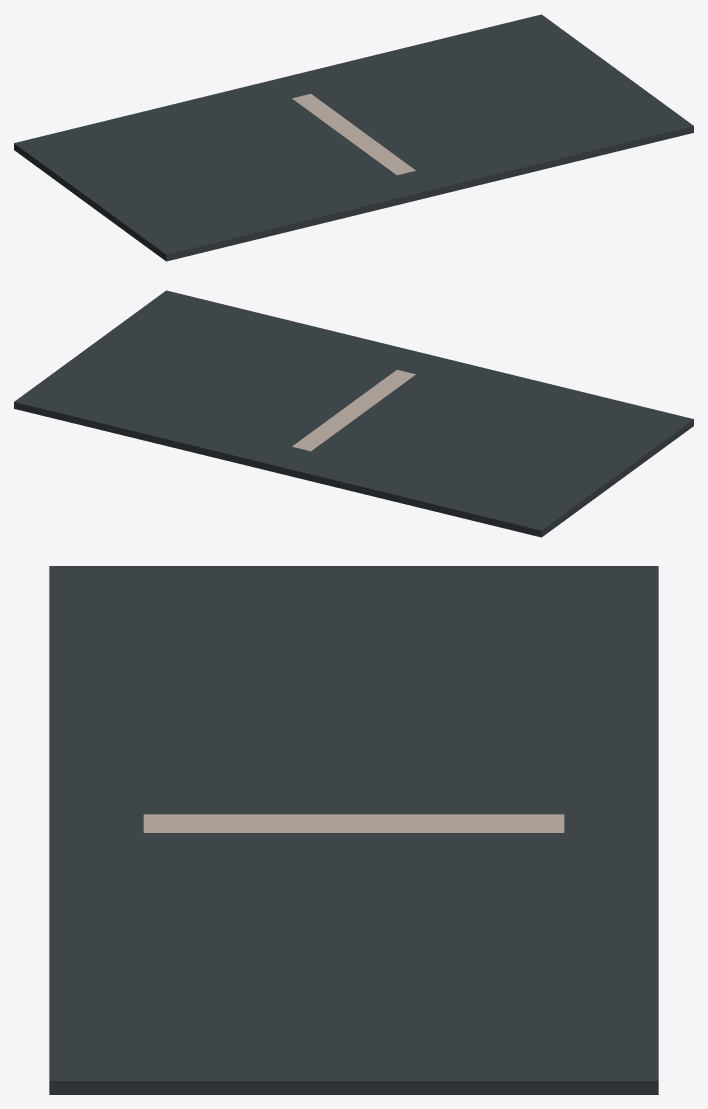
Rendered from SM_road_19.glb.
The picture shows the model from 3 angles, top to bottom: view 1: azimuth 30°, elevation 25°; view 2: azimuth 150°, elevation 25°; view 3: azimuth 270°, elevation 25°; orthographic projection. The views are drawn at different scales.
Parts seen in each view (by area): view 1: SM_road_19; view 2: SM_road_19; view 3: SM_road_19.
Part boxes in pixels (x1,y1,x2,y2): SM_road_19: [14, 14, 693, 261]; SM_road_19: [14, 290, 693, 537]; SM_road_19: [49, 566, 658, 1094].
Bounding box in the file's own units: 4 × 0.05 × 2.
1 material, 1 textured.
